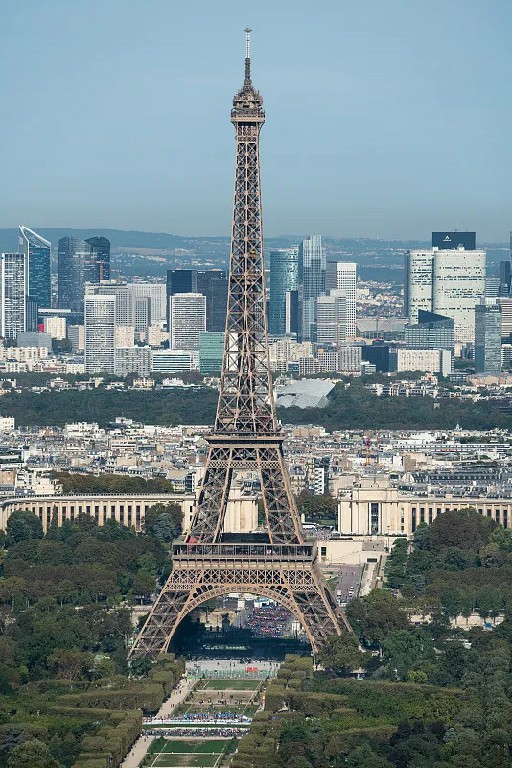Eiffel: (126, 29, 358, 667)
